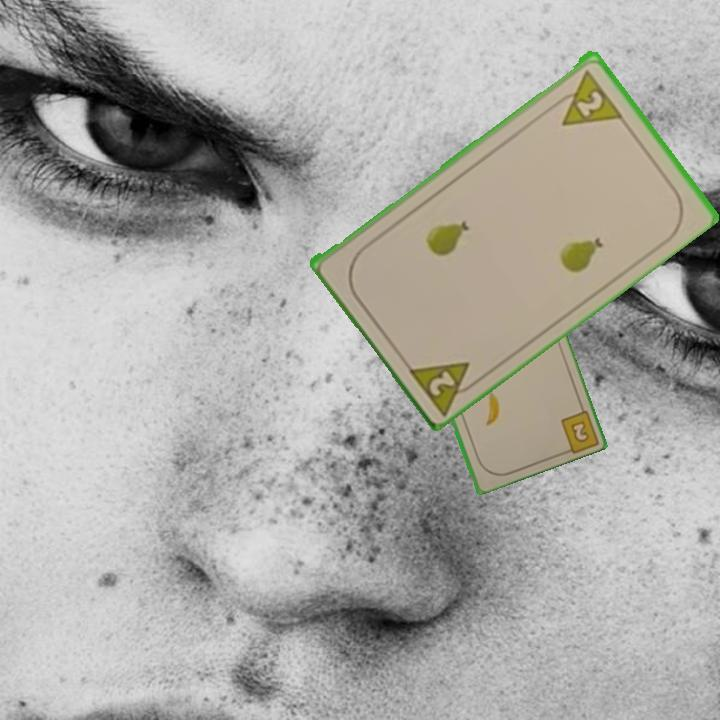2b: (567, 417, 592, 445)
2p: (403, 357, 486, 416), (548, 66, 625, 129)
